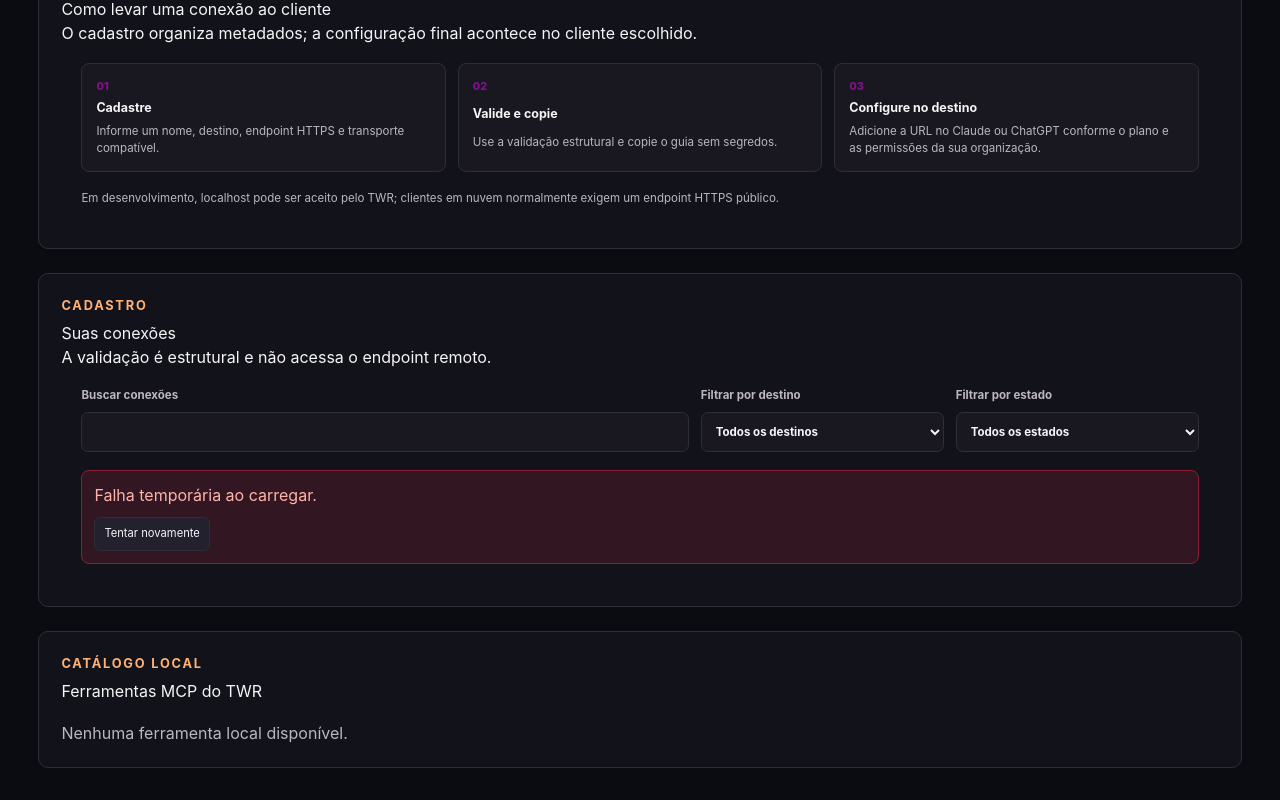
Test case: McpConnectionsPage › shows a recoverable load error and retries both resources
(page scrolled)
Expected: the text "Falha temporária ao carregar." is shown, [94,485,317,505]
What coordinates should you click on to do the following:
click the button "Tentar novamente"
I would click on:
 (152, 534)
Its box is [94,517,210,551].
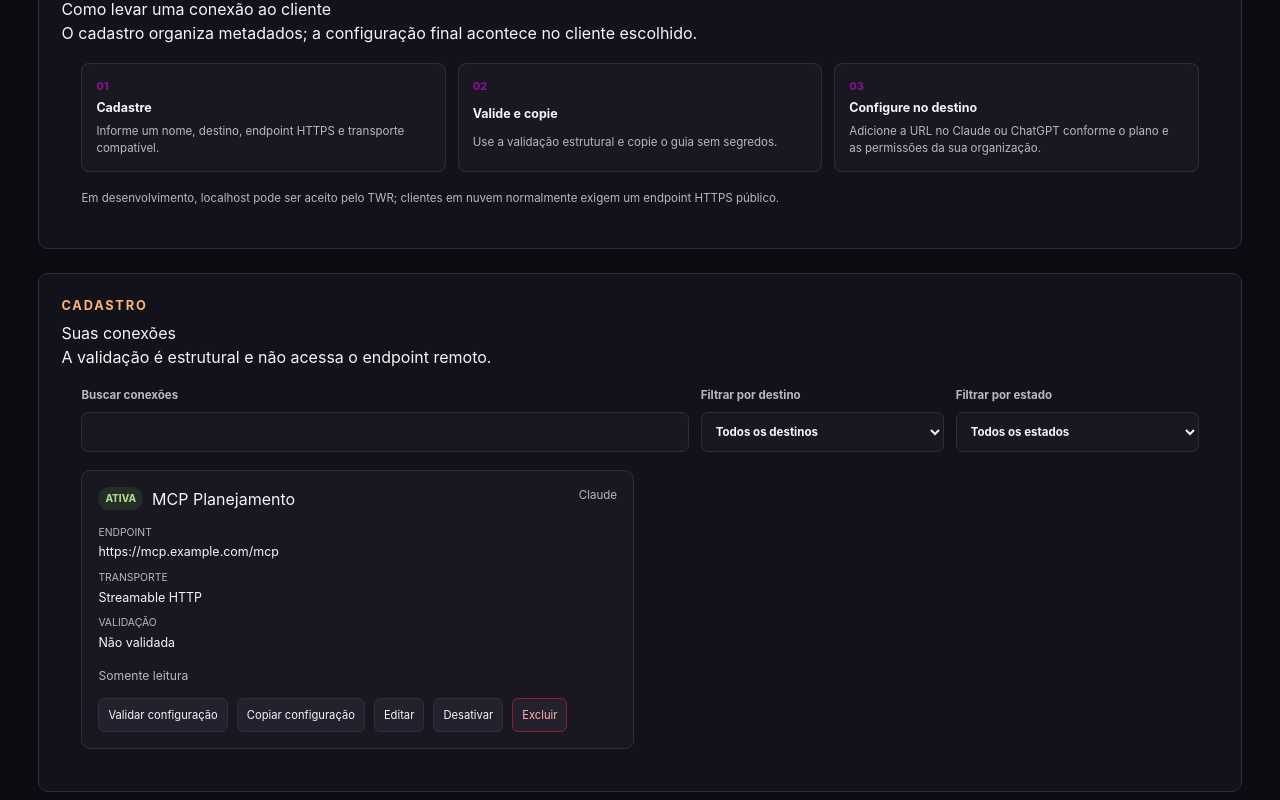
Now the heading "MCP Planejamento" is shown, box [152,487,295,511]
Now the button "Tentar novamente" is gone
